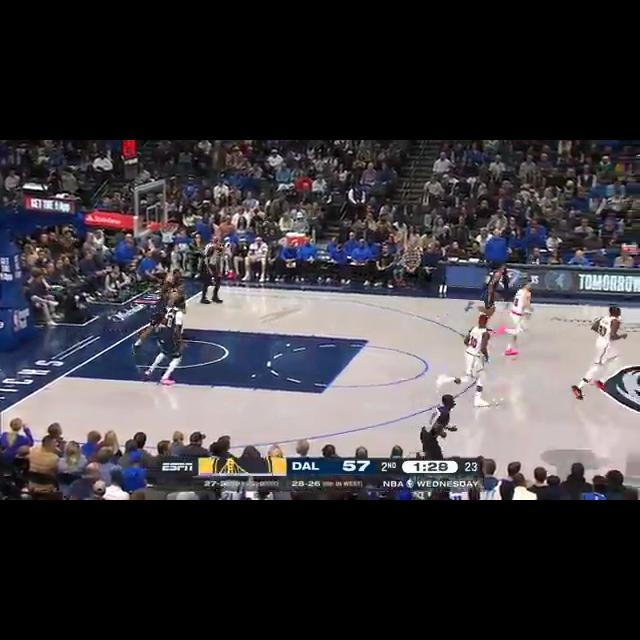Team-1-Player: (141, 298, 193, 392), (462, 260, 514, 324), (150, 285, 186, 319)
Team-2-Player: (434, 314, 494, 408), (570, 304, 630, 398), (492, 278, 540, 358)
